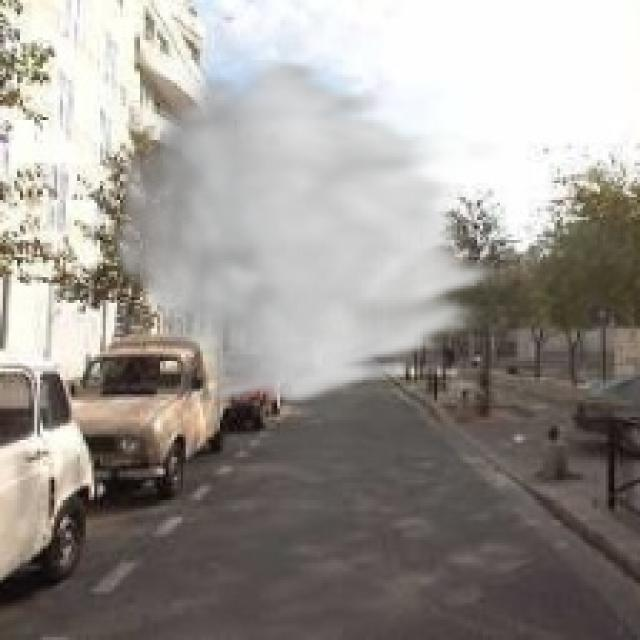Smoke: (102, 54, 512, 409)
